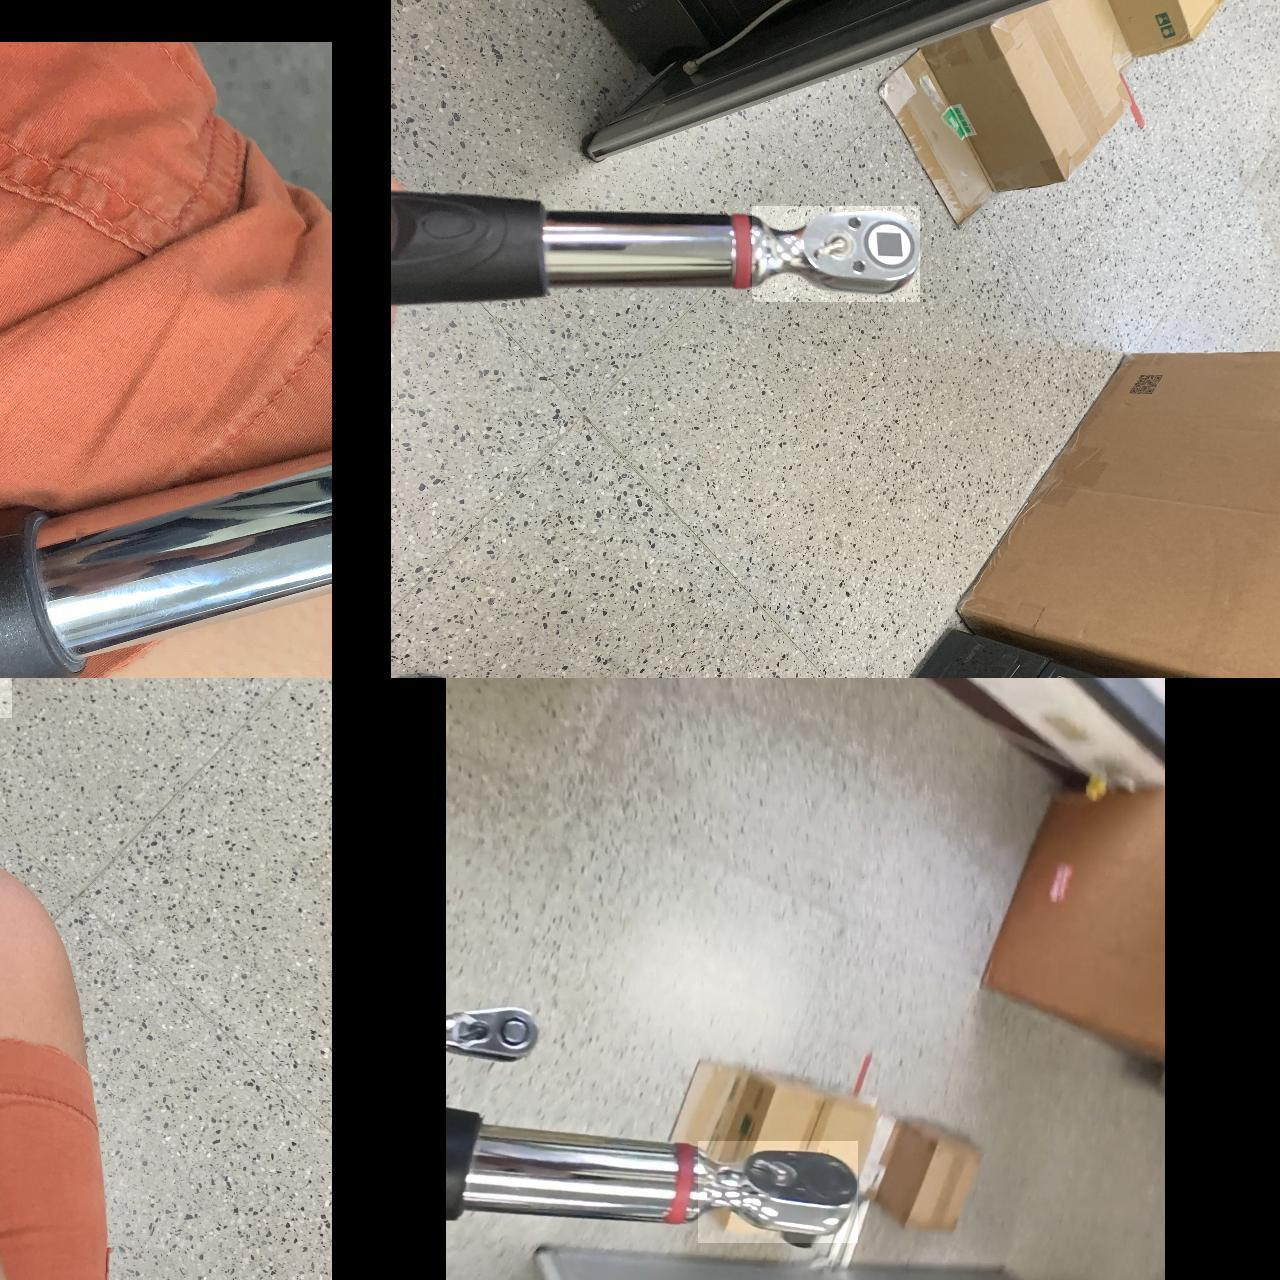Tool: (697, 1141, 857, 1242), (751, 206, 919, 302), (445, 1005, 542, 1062)
